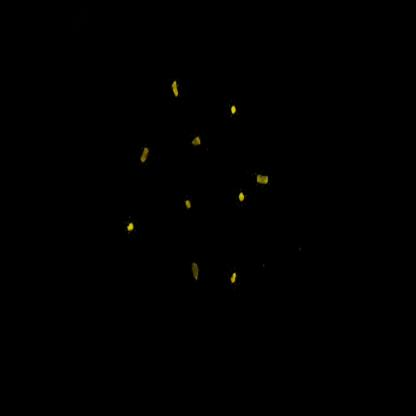PE: (117, 211, 146, 243), (226, 259, 248, 298), (230, 185, 249, 220), (225, 95, 244, 126), (182, 194, 199, 222)
PP: (175, 246, 207, 311), (162, 75, 188, 109), (254, 169, 279, 200), (139, 132, 157, 171), (190, 123, 206, 155)
